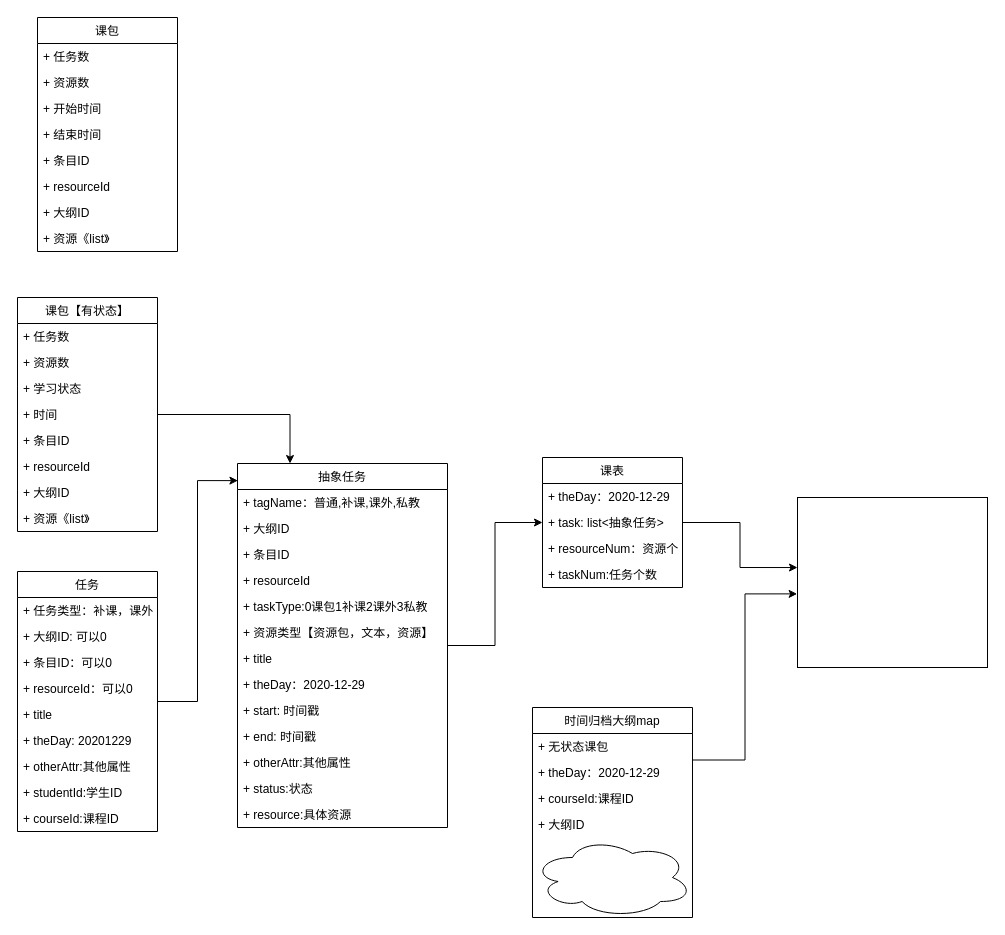
Some shapes in this 1005 by 935 pixel diagram are drawn without their labels. Here are the shapes that lost their labels. From the top down, the centre of each, then its label:
At (x=892, y=582): "<<Interface>> 学习计划 + 课程id + 课表 + 学生ID + 整体课表 + 获取某几天的课 + 保存某天的任务".
At (x=612, y=877): "缓存基于大纲ID来".
